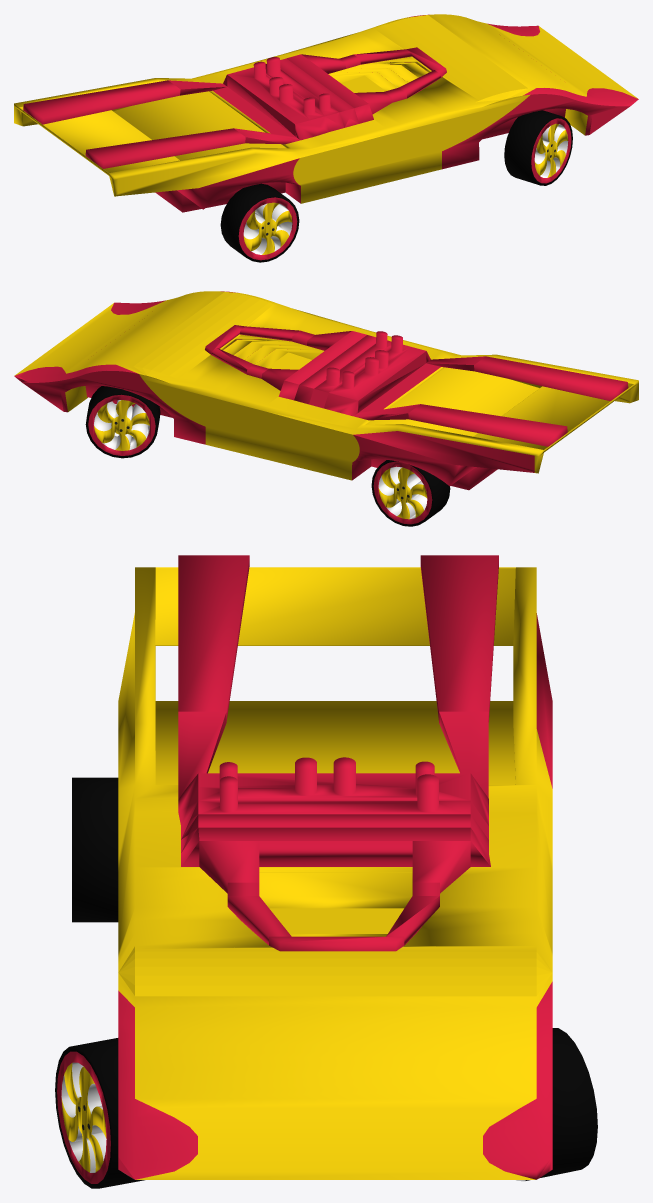
The model's file is toy9.fbx.
The picture shows the model from 3 angles, top to bottom: view 1: azimuth 30°, elevation 25°; view 2: azimuth 150°, elevation 25°; view 3: azimuth 270°, elevation 25°; orthographic projection. The views are drawn at different scales.
Parts seen in each view (by area): view 1: Component#2_001, Component#1_001, Untitled_002, Untitled_001; view 2: Component#2_001, Component#1_001, Untitled_003, Untitled_004; view 3: Component#2_001, Component#1_001, Untitled_001, Untitled_002, Untitled_003.
Boxes of the visible parts, x1,y1,x2,y2 form: Component#2_001: [14, 14, 638, 212]; Component#1_001: [23, 47, 446, 168]; Untitled_002: [220, 183, 299, 262]; Untitled_001: [504, 110, 572, 185]; Component#2_001: [14, 291, 638, 490]; Component#1_001: [205, 325, 628, 446]; Untitled_003: [85, 386, 160, 458]; Untitled_004: [371, 460, 450, 526]; Component#2_001: [118, 567, 552, 1179]; Component#1_001: [178, 555, 498, 951]; Untitled_001: [55, 1038, 144, 1188]; Untitled_002: [72, 777, 118, 922]; Untitled_003: [516, 1028, 597, 1181].
Bounding box in the file's own units: 1222 × 254 × 547.
